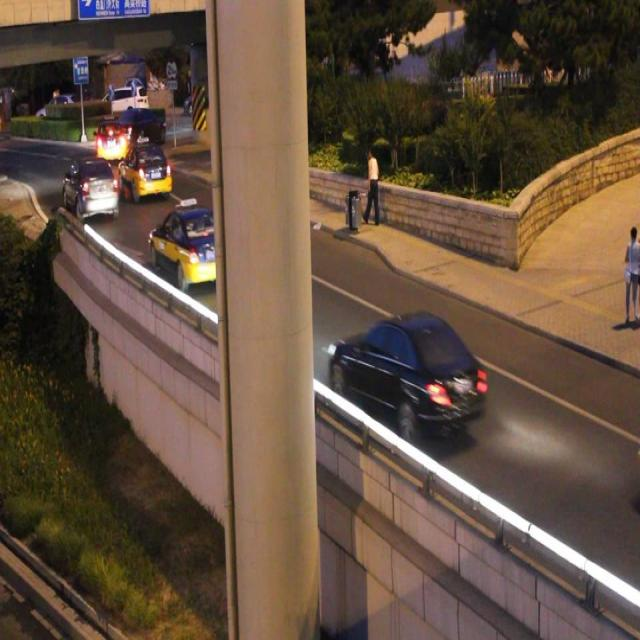car: (331, 313, 484, 436), (150, 205, 227, 283), (65, 157, 118, 219), (121, 145, 171, 196), (96, 122, 128, 160)
